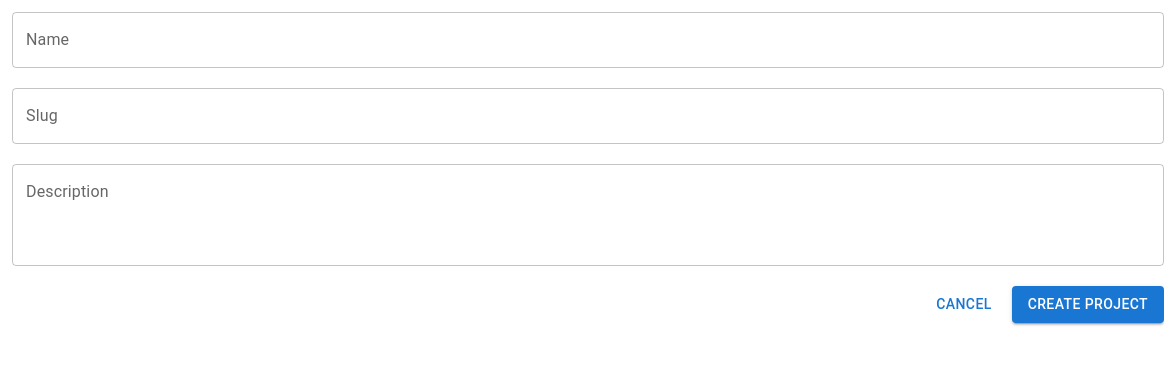
Test: ProjectForm › shows validation errors for required fields
What coordinates should you click on to do the following:
click the button "Create Project"
I would click on:
 (1088, 304)
Its box is [1012,286,1164,322].
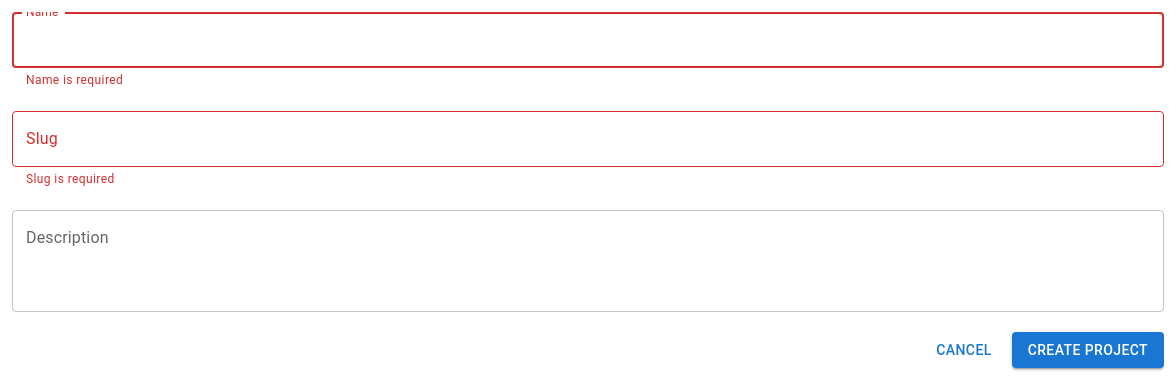
Check: the text "Name is required" is shown, box [26,73,123,87]
Check: the text "Slug is required" is shown, box [26,172,115,186]
